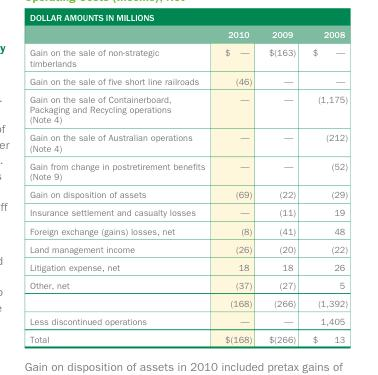table: (29, 29, 346, 344)
table column: (29, 29, 214, 344), (214, 29, 259, 344), (259, 29, 303, 344), (303, 29, 346, 344)
table column header: (29, 29, 346, 43)
table row: (29, 89, 346, 128), (29, 156, 346, 185), (29, 43, 346, 71), (29, 128, 346, 156), (29, 71, 346, 89), (29, 185, 346, 203), (29, 203, 346, 221), (29, 221, 346, 239), (29, 239, 346, 257), (29, 257, 346, 275), (29, 275, 346, 293), (29, 293, 346, 311), (29, 311, 346, 329), (29, 329, 346, 344), (29, 29, 346, 43)
